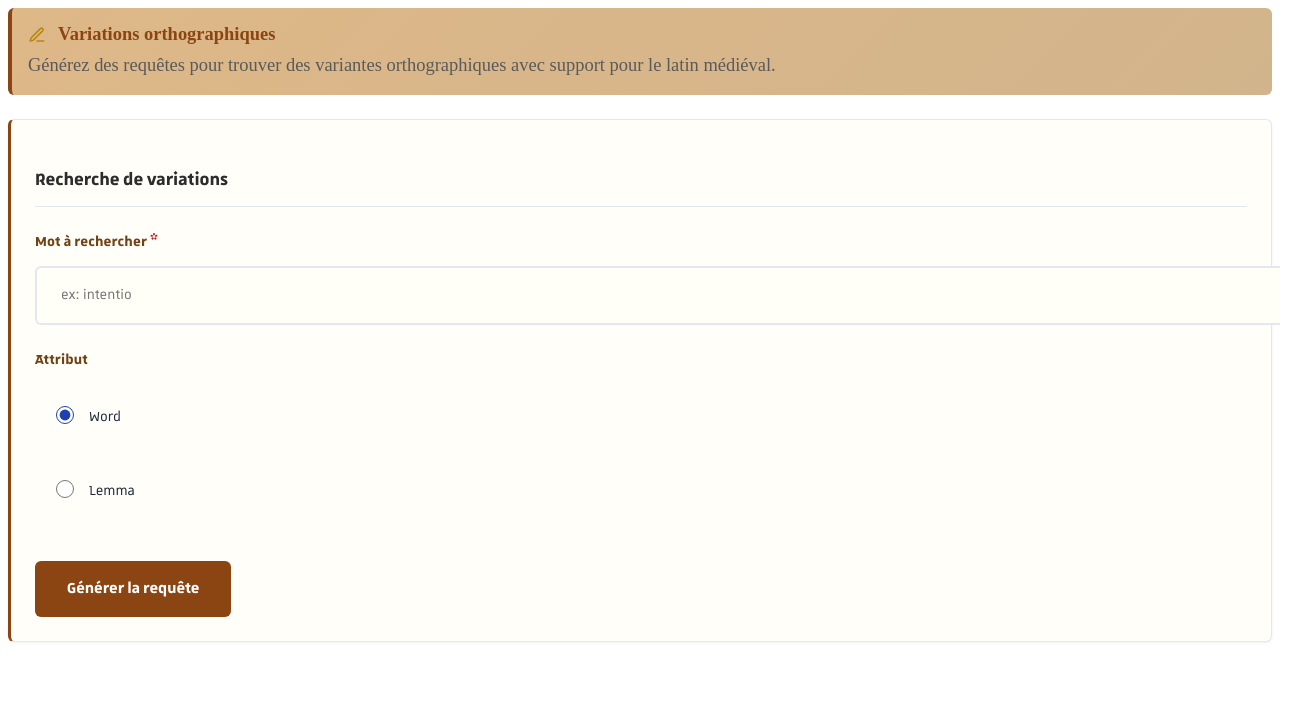
Test case: VariationView - Affichage des résultats › devrait afficher une erreur et masquer les anciens résultats
The width and height of the screenshot is (1292, 720).
Type "test" into the field with placeholder "ex: intentio" at coordinates (658, 295), box [35,266,1280,325]
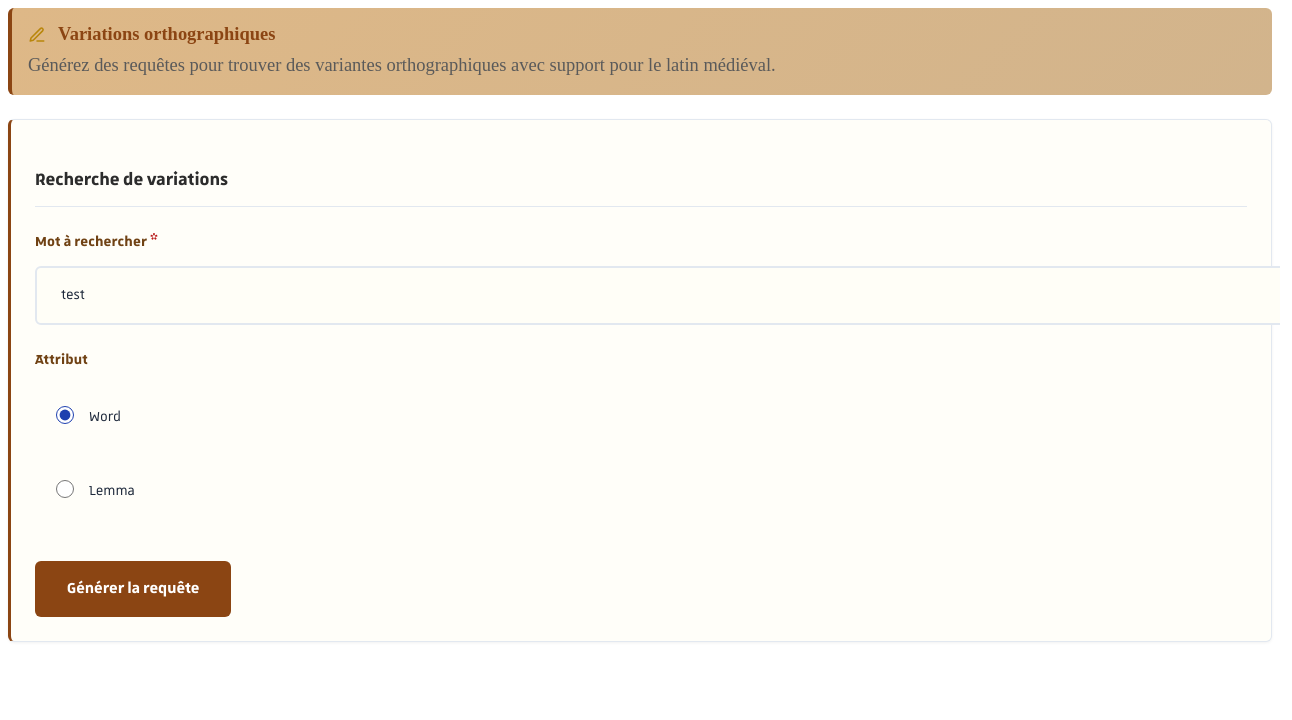
Click the button "Générer la requête" at coordinates (133, 589), box [35,561,231,617]
(page scrolled)
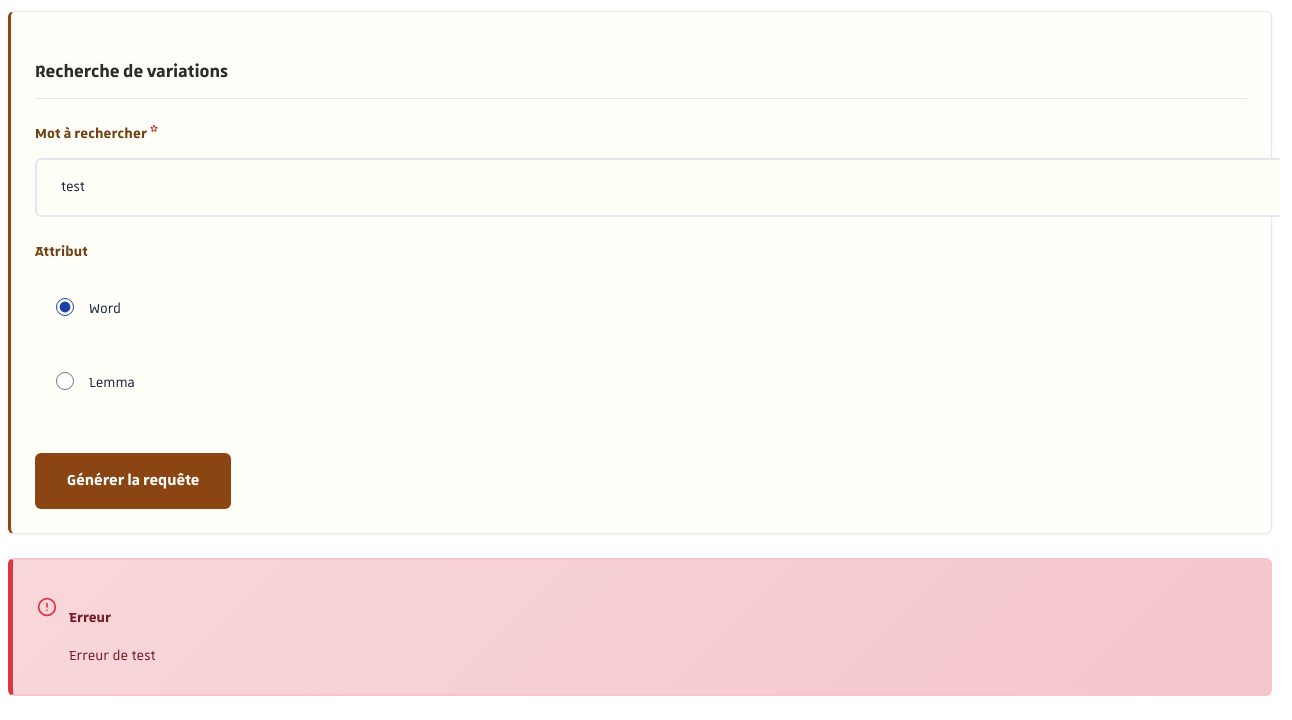
Check: the text "Erreur de test" is shown, box [69,647,156,665]
